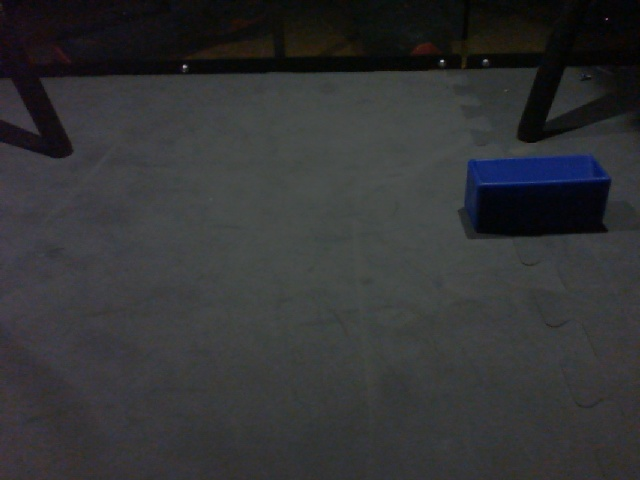BlueSample: (463, 148, 613, 236)
